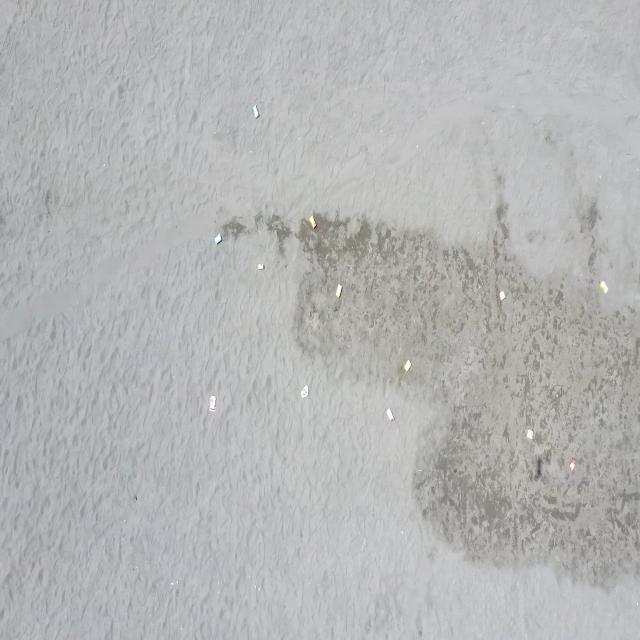Garbage: (208, 395, 216, 412), (252, 103, 259, 118), (568, 457, 575, 471), (599, 280, 606, 293), (308, 215, 315, 228), (300, 384, 307, 396), (386, 407, 392, 420), (404, 360, 411, 371), (213, 233, 220, 243), (335, 283, 340, 296), (499, 289, 504, 300), (527, 428, 532, 439), (256, 263, 263, 270)
